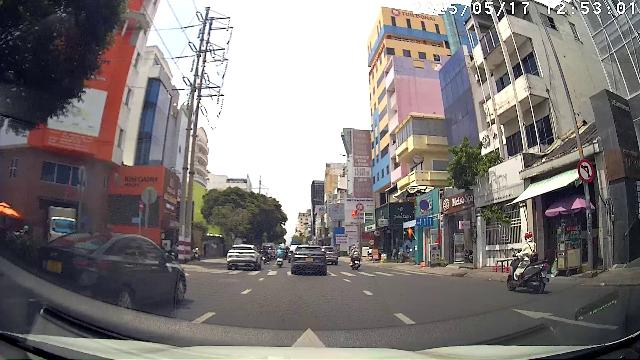123a-cam-re-trai: (578, 159, 594, 183)
